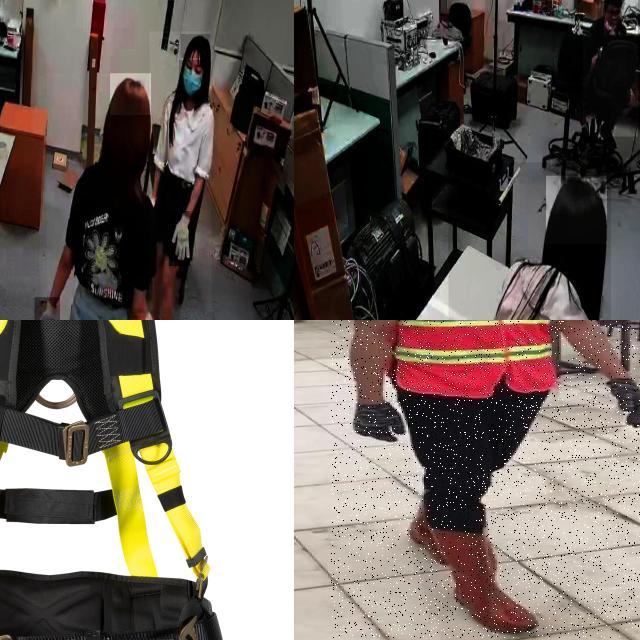Harness: (0, 320, 251, 640)
boots: (431, 527, 540, 634), (408, 488, 447, 567)
face_mask: (179, 60, 205, 102)
face_nomask: (605, 6, 620, 25)
hand_glove: (169, 211, 191, 267), (34, 297, 60, 320)
head_nohelmet: (546, 176, 608, 245), (110, 73, 152, 116), (181, 34, 211, 59), (601, 0, 620, 4)
person: (331, 320, 640, 638), (47, 73, 152, 320), (448, 162, 611, 320), (149, 31, 212, 320), (583, 0, 638, 137)
vest: (385, 320, 559, 396)
